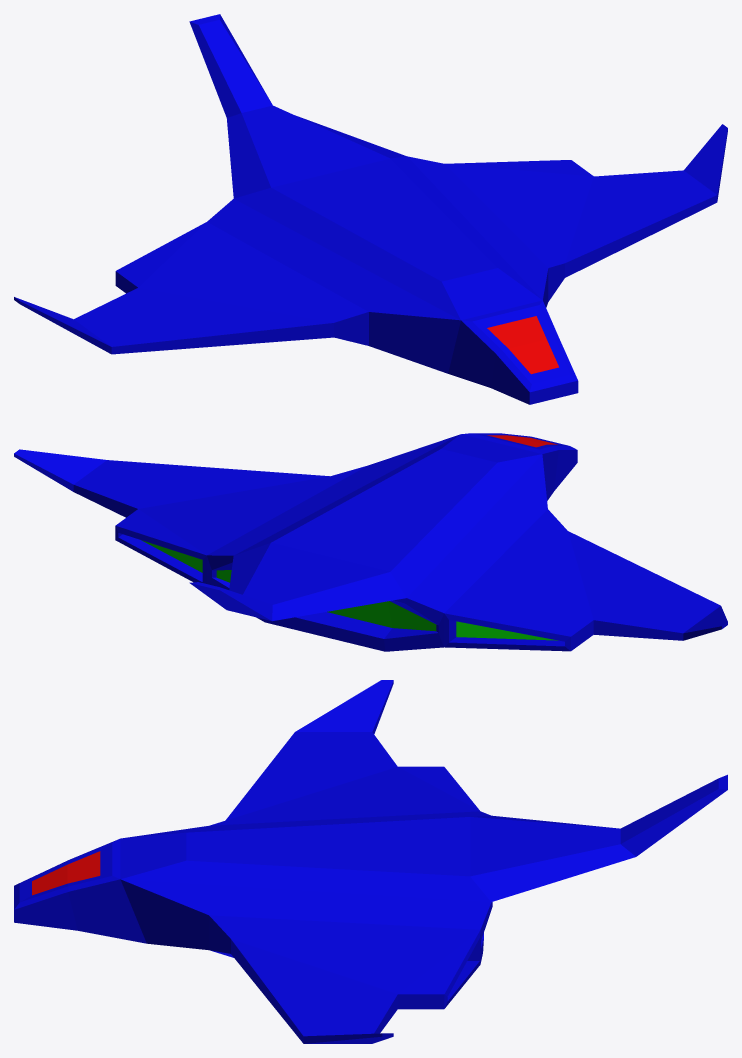
Rendered from spaceship.fbx.
The picture shows the model from 3 angles, top to bottom: view 1: azimuth 30°, elevation 25°; view 2: azimuth 150°, elevation 25°; view 3: azimuth 270°, elevation 25°; orthographic projection. The views are drawn at different scales.
Visible parts, largest first — view 1: stingray; view 2: stingray; view 3: stingray.
Part boxes in pixels (x1,y1,x2,y2): stingray: (14,14,727,404); stingray: (14,433,727,651); stingray: (14,680,727,1043).
Bounding box in the file's own units: 27.61 × 5.14 × 23.57.
